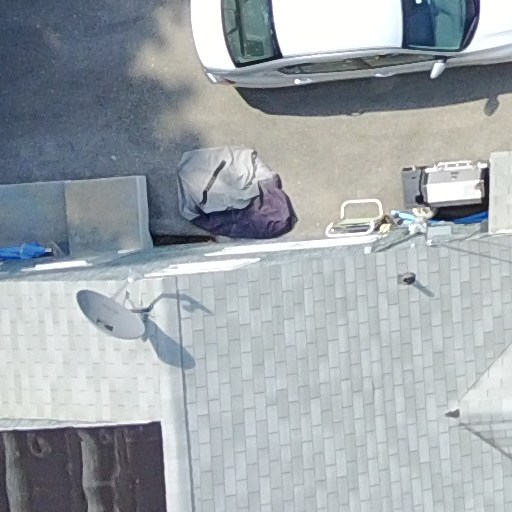tarp: (180, 131, 311, 247)
